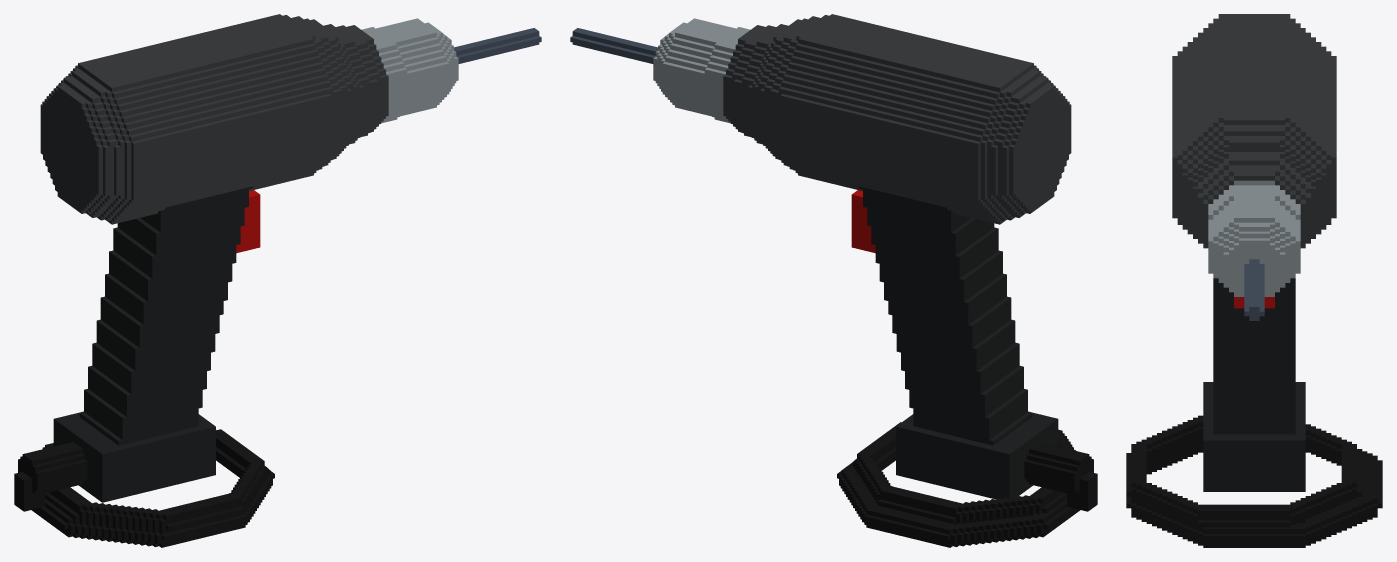
Rendered from corded_powerdrill.glb.
3 views of the same model, side by side, from view 1: azimuth 30°, elevation 25°; view 2: azimuth 150°, elevation 25°; view 3: azimuth 270°, elevation 25° (orthographic). The views are drawn at different scales.
Visible parts, largest first — view 1: corded_powerdrill:compound; view 2: corded_powerdrill:compound; view 3: corded_powerdrill:compound.
Boxes of the visible parts, box(x1,y1,x2,y2) form: corded_powerdrill:compound: box(14, 14, 541, 547); corded_powerdrill:compound: box(570, 14, 1097, 547); corded_powerdrill:compound: box(1126, 14, 1382, 547).
Size of the model in its own units: 0.246 by 0.196 by 0.1.
